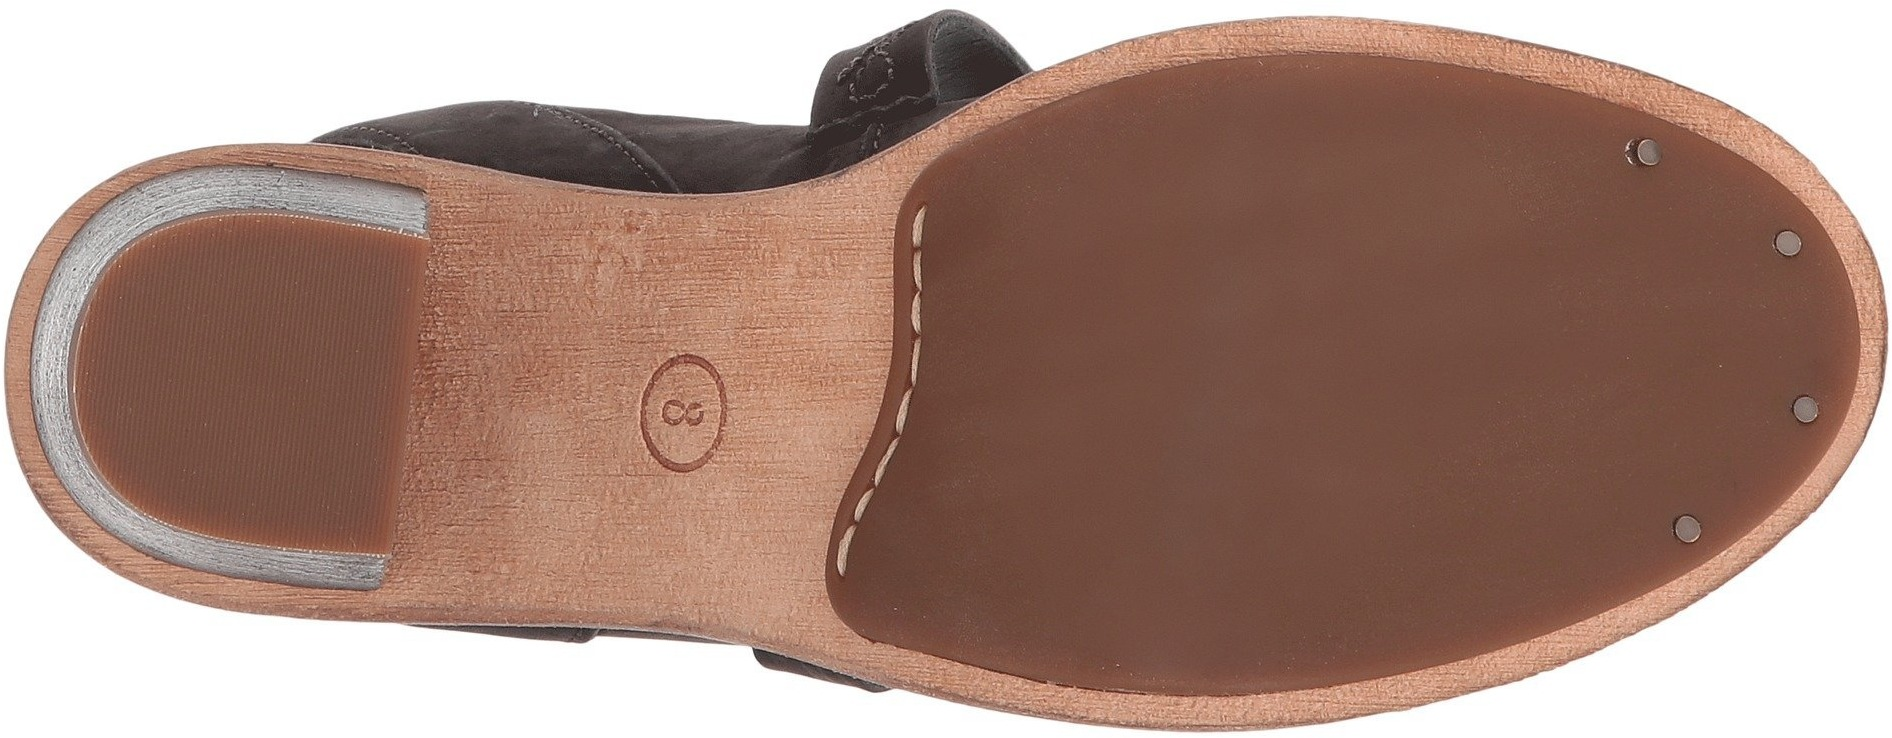circle: (1645, 358, 1886, 617), (1589, 39, 1836, 271), (635, 334, 763, 500)
line: (112, 285, 357, 506)
other: (1157, 408, 1415, 660), (1210, 80, 1470, 329), (944, 169, 1204, 404), (919, 418, 1152, 650), (1421, 340, 1633, 533), (1477, 166, 1636, 324), (1647, 270, 1791, 406)
text: (635, 334, 763, 500)
